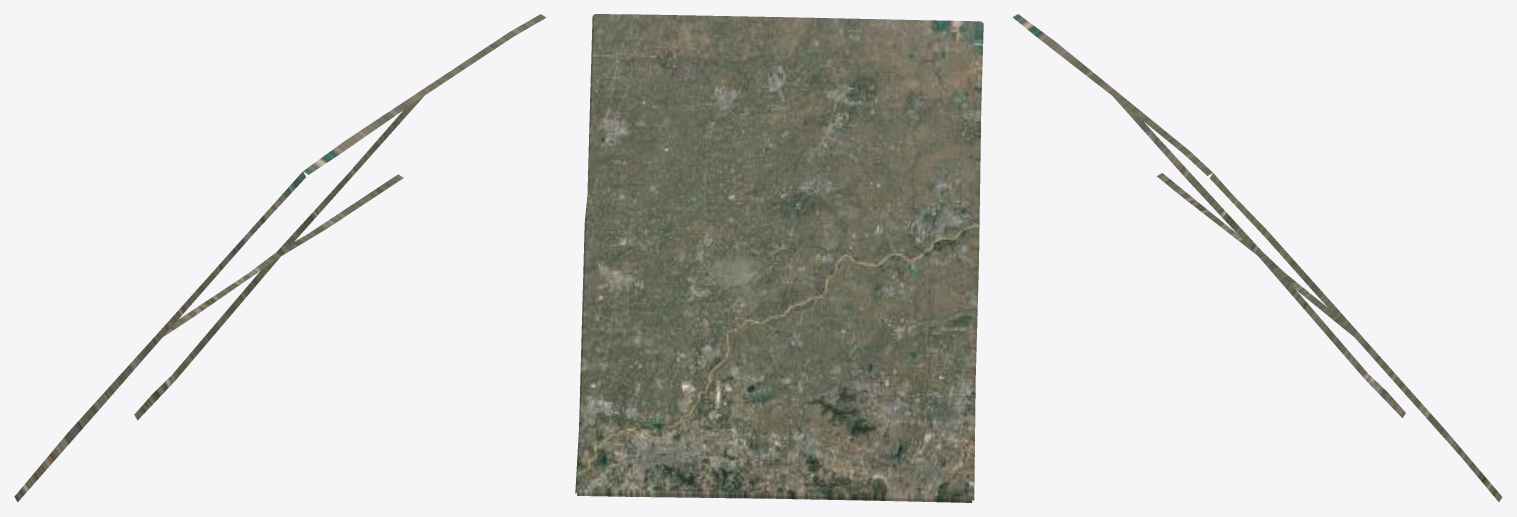
3 renders of one model, left to right at view 1: azimuth 30°, elevation 25°; view 2: azimuth 150°, elevation 25°; view 3: azimuth 270°, elevation 25°, orthographic. The views are drawn at different scales.
Size of the model in its own units: 156674 by 126903 by 143818.
Materials: 1 (1 with a texture image).
